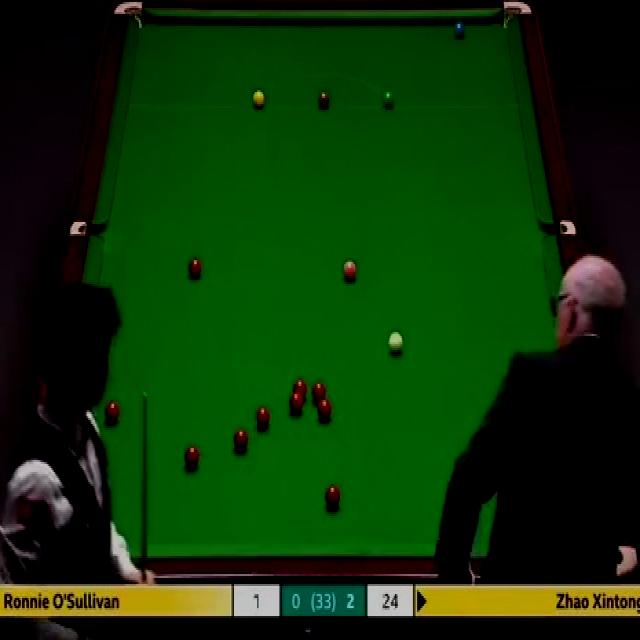pocket: (500, 0, 532, 31), (110, 0, 144, 28), (68, 214, 106, 237), (543, 221, 576, 237)
